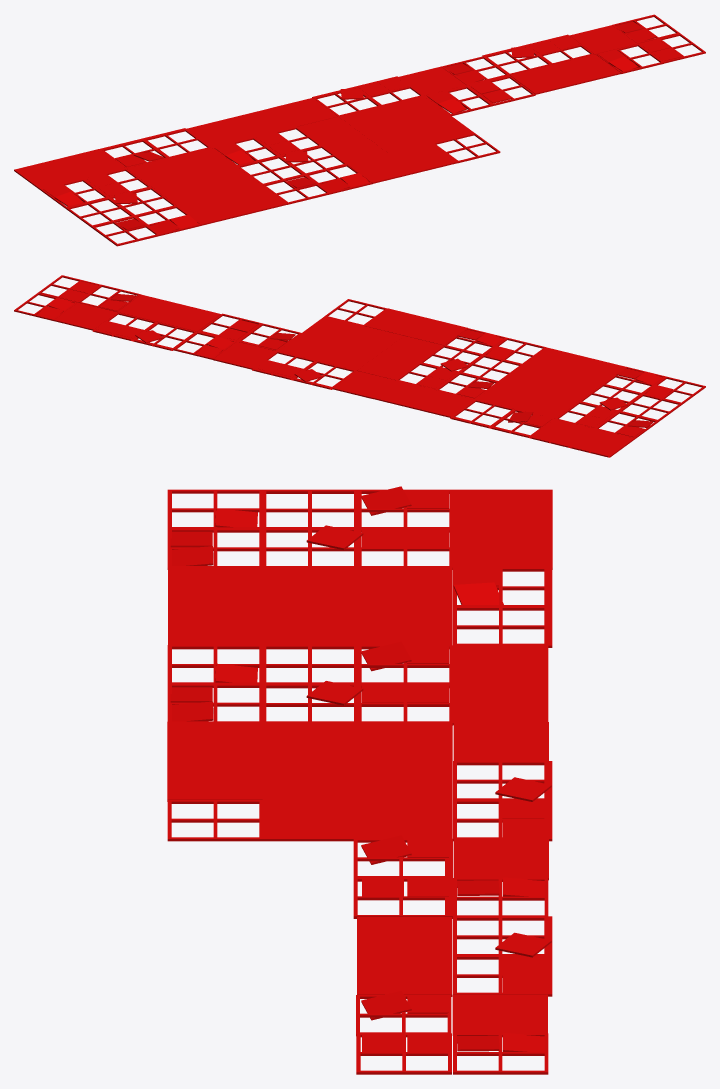
The model's file is W03_DropCeiling_02.fbx.
The picture shows the model from 3 angles, top to bottom: view 1: azimuth 30°, elevation 25°; view 2: azimuth 150°, elevation 25°; view 3: azimuth 270°, elevation 25°; orthographic projection. The views are drawn at different scales.
Parts seen in each view (by area): view 1: W03_DropCeiling_02; view 2: W03_DropCeiling_02; view 3: W03_DropCeiling_02.
Boxes of the visible parts, x1,y1,x2,y2 form: W03_DropCeiling_02: [14, 14, 705, 246]; W03_DropCeiling_02: [14, 275, 705, 457]; W03_DropCeiling_02: [167, 486, 552, 1074].
Size of the model in its own units: 2167 by 15.95 by 606.
